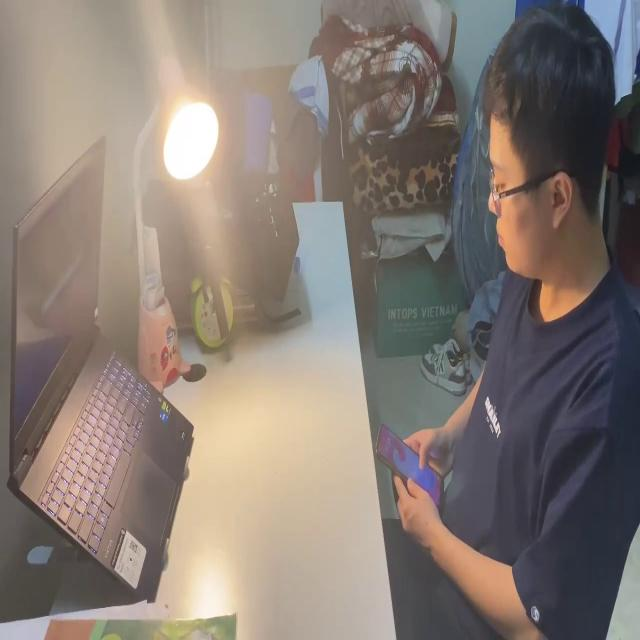book: (0, 597, 240, 639)
laptop: (6, 131, 198, 601)
phone: (373, 416, 443, 524)
student: (382, 1, 640, 640)
